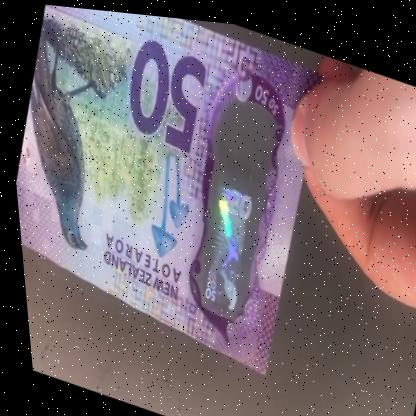50B: (179, 100, 282, 316)
